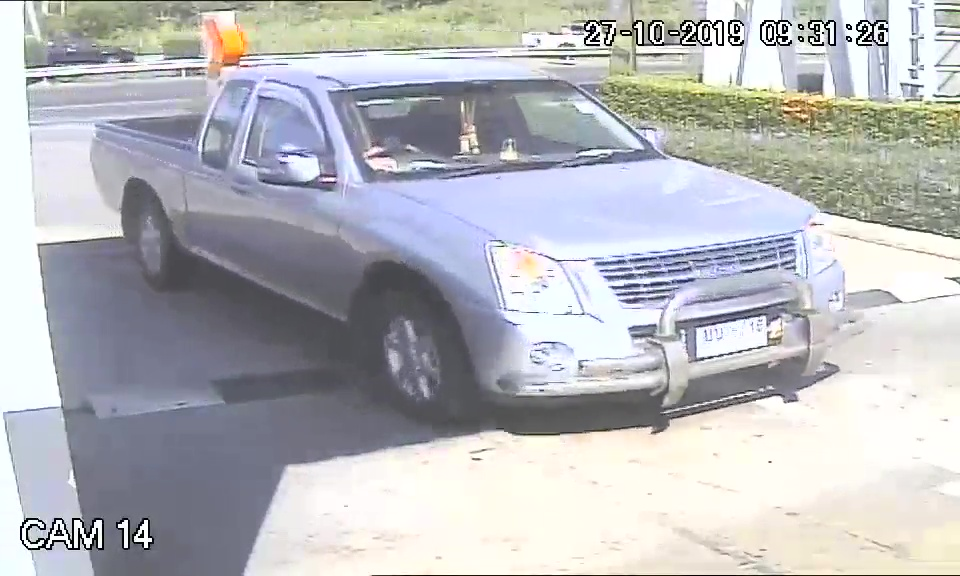pickup: (85, 57, 849, 430)
